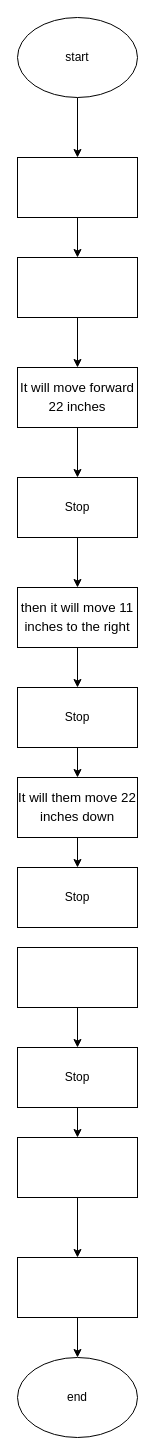
This 155x1455 diagram has some shape labels left out. Each missing label, with the box of its shape:
11 inches to the left: (16, 946, 138, 1008)
say "im done i need water": (16, 1256, 138, 1318)
say "ready set go": (16, 256, 138, 318)
set light to green: (16, 156, 138, 218)
set light to red: (16, 1136, 138, 1198)
